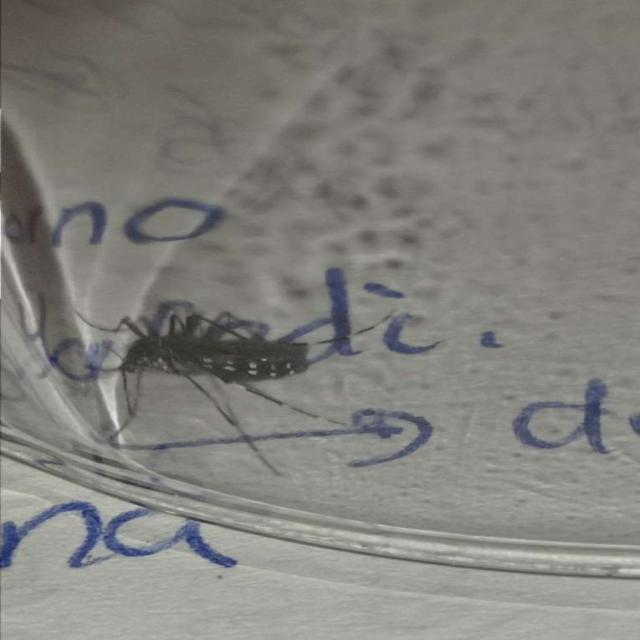albopictus: (39, 233, 496, 528)
